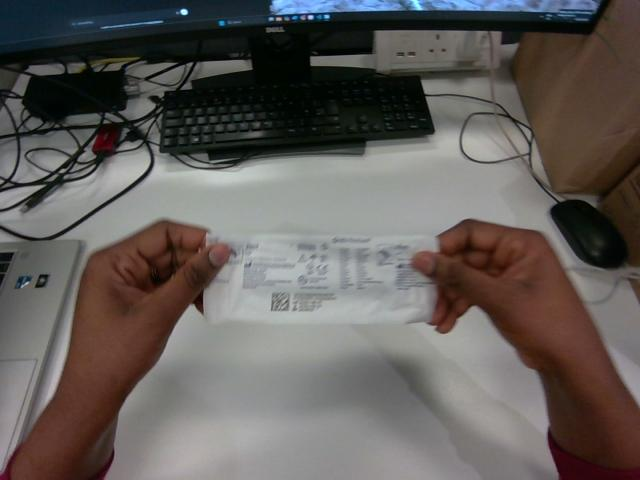syringe: (204, 235, 437, 323)
